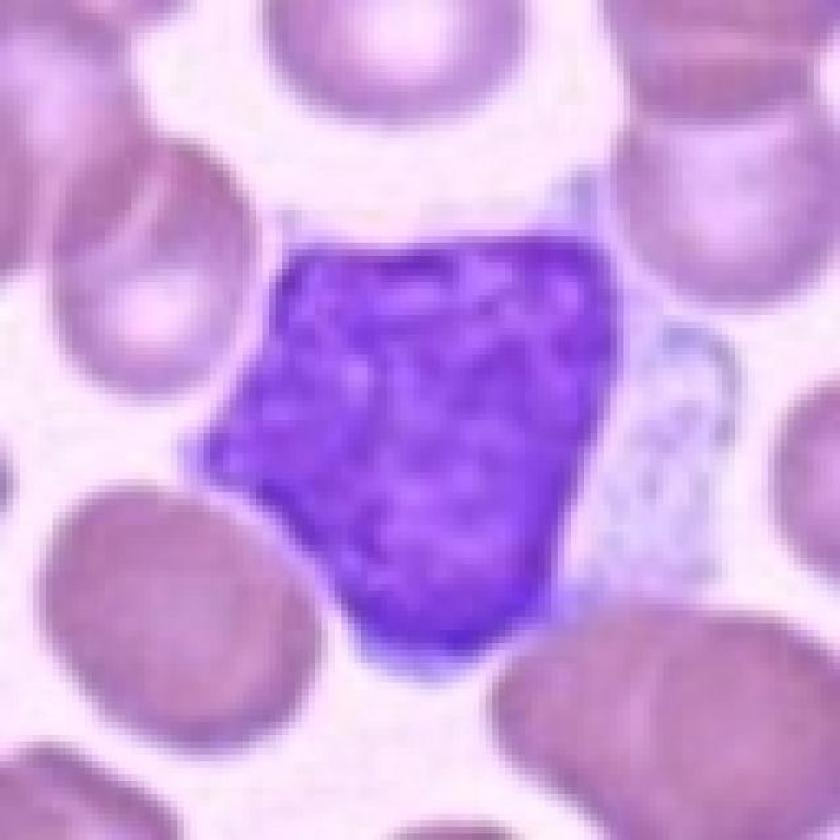lymphocyte: (184, 160, 760, 680)
